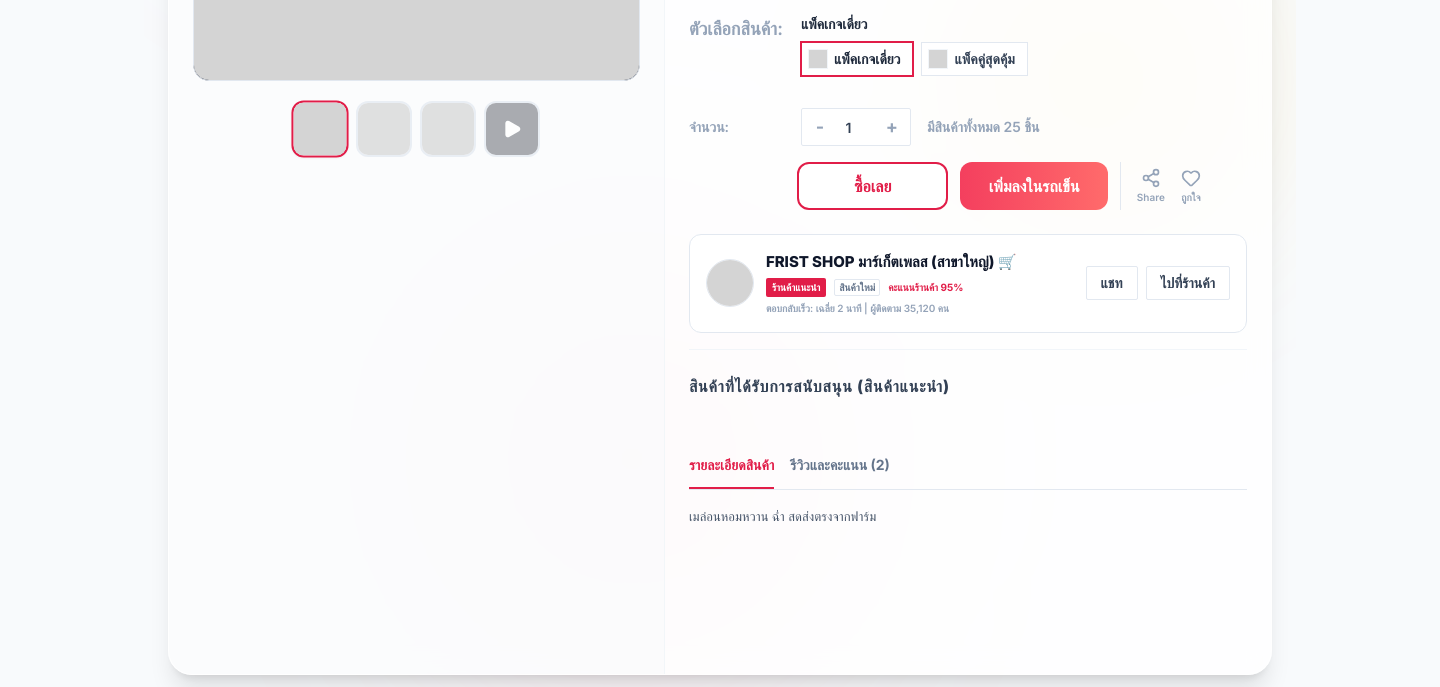
Scenario: ProductDetailPage - Product Reviews & Ratings System › filters reviews by star rating pill
(page scrolled)
Click the button "รีวิวและคะแนน (2)".
click(840, 471)  # box [790,454,890,488]
(page scrolled)
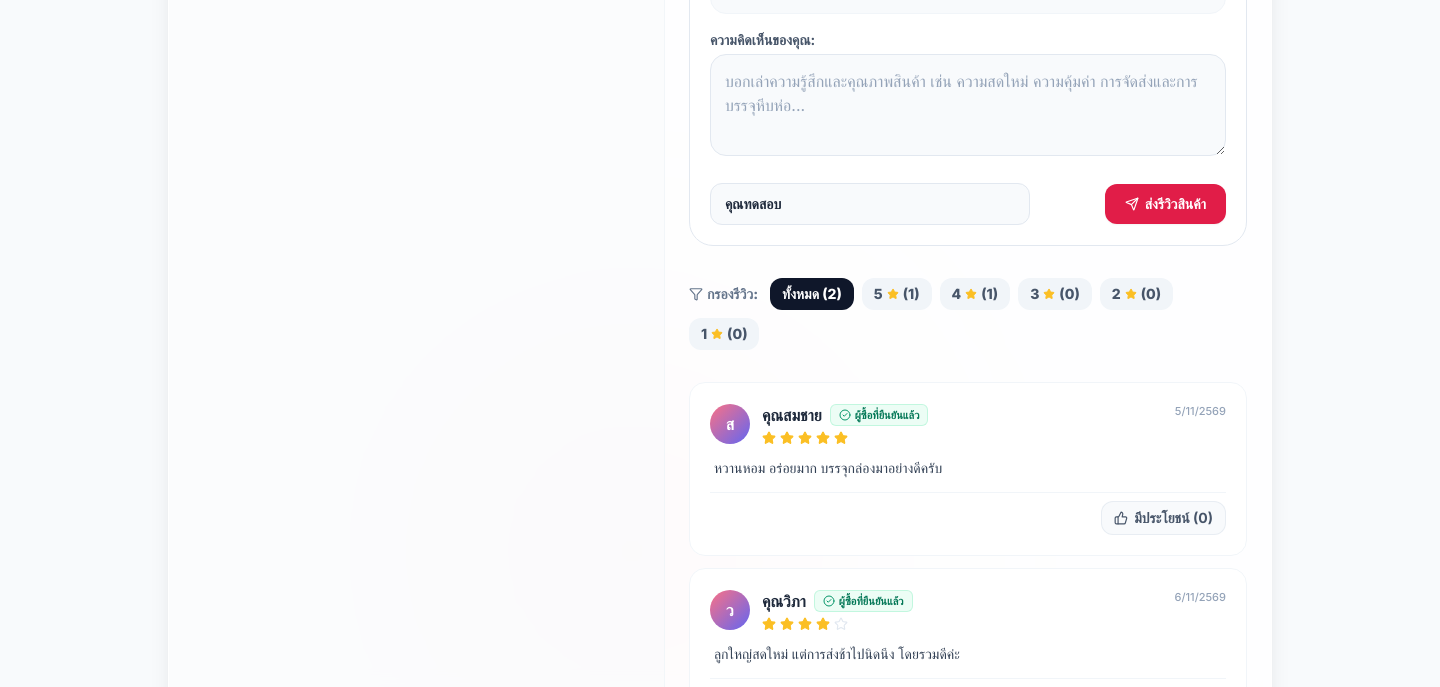
Expected: the text "หวานหอม อร่อยมาก บรรจุกล่องมาอย่างดีครับ" is shown, [714,459,942,476]
Note: Filter by 5 stars
Click the button "5 (1)".
click(897, 294)  # box [862,278,932,310]
(page scrolled)
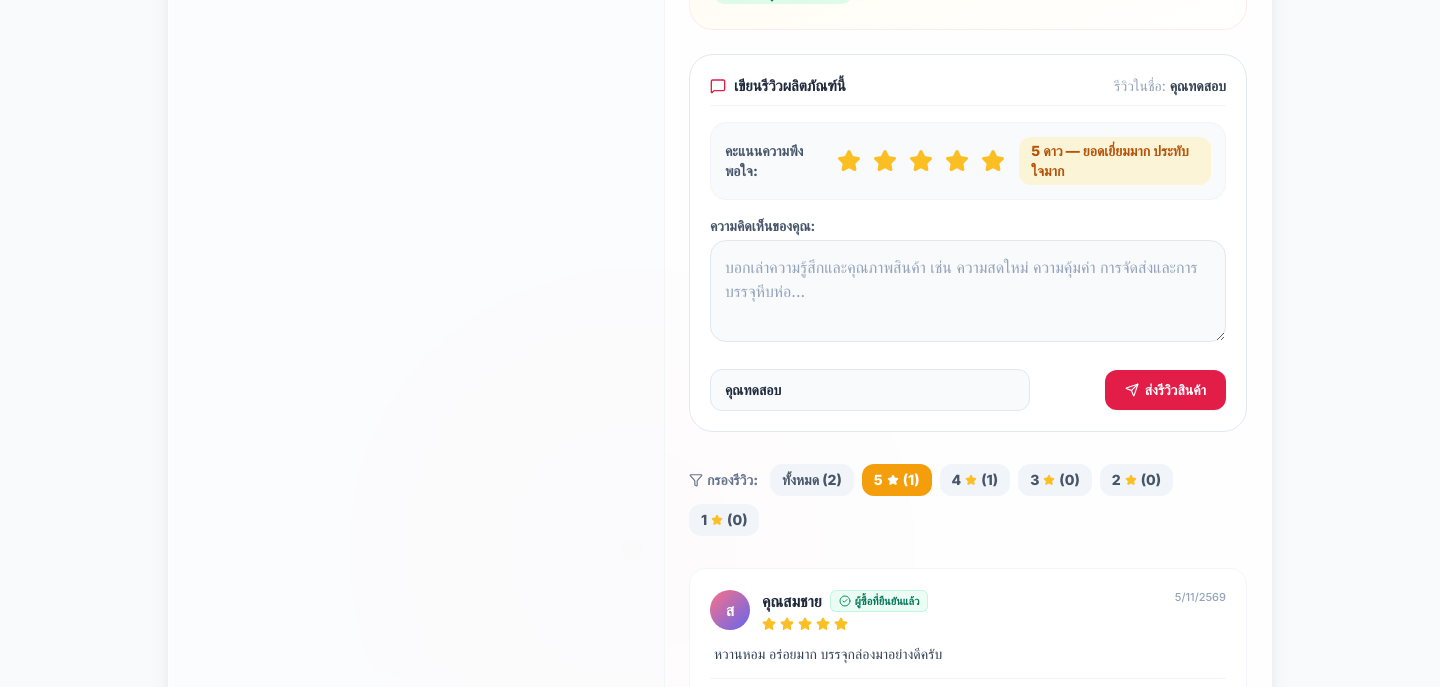
Expected: the text "หวานหอม อร่อยมาก บรรจุกล่องมาอย่างดีครับ" is shown, [714,645,942,662]
Expected: the text "ลูกใหญ่สดใหม่ แต่การส่งช้าไปนิดนึง โดยรวมดีค่ะ" is gone
Note: Reset filter
Click the button "ทั้งหมด (2)".
click(812, 480)  # box [770,464,854,496]
(page scrolled)
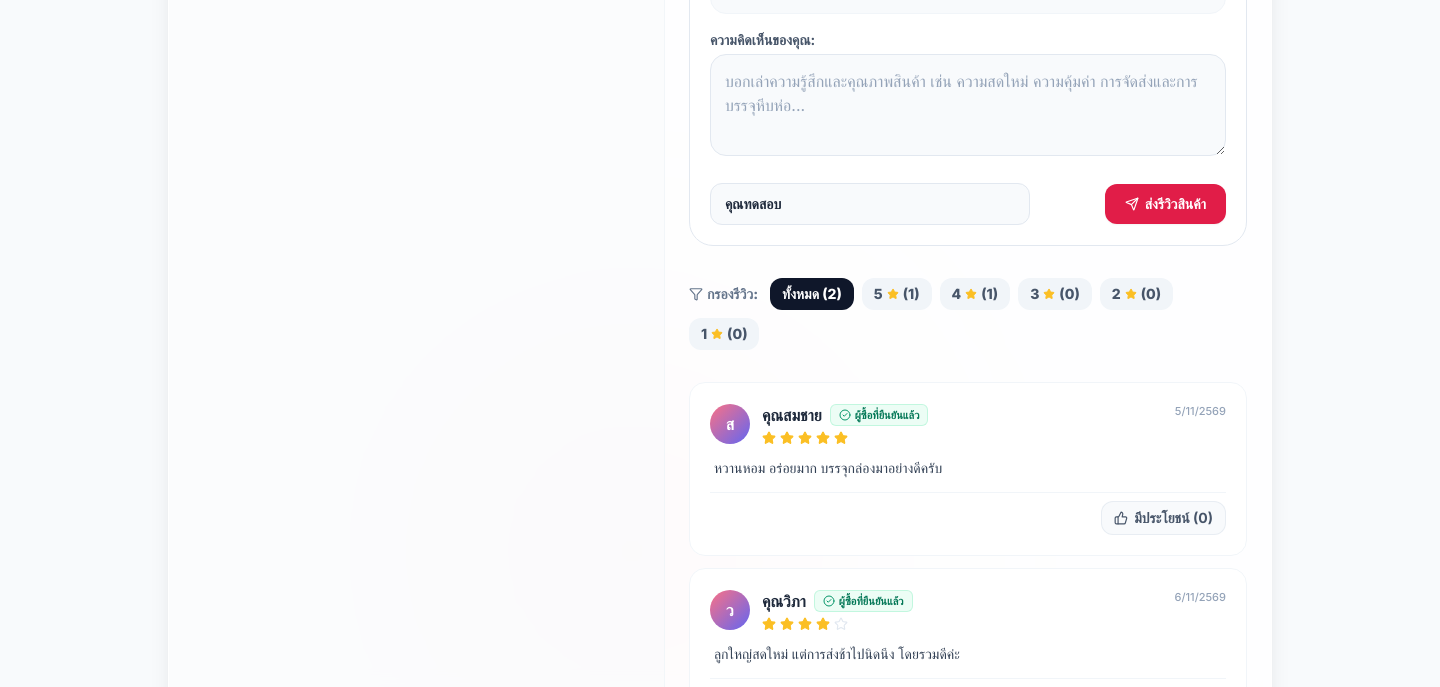
Expected: the text "หวานหอม อร่อยมาก บรรจุกล่องมาอย่างดีครับ" is shown, [714,459,942,476]
Expected: the text "ลูกใหญ่สดใหม่ แต่การส่งช้าไปนิดนึง โดยรวมดีค่ะ" is shown, [714,645,960,662]
